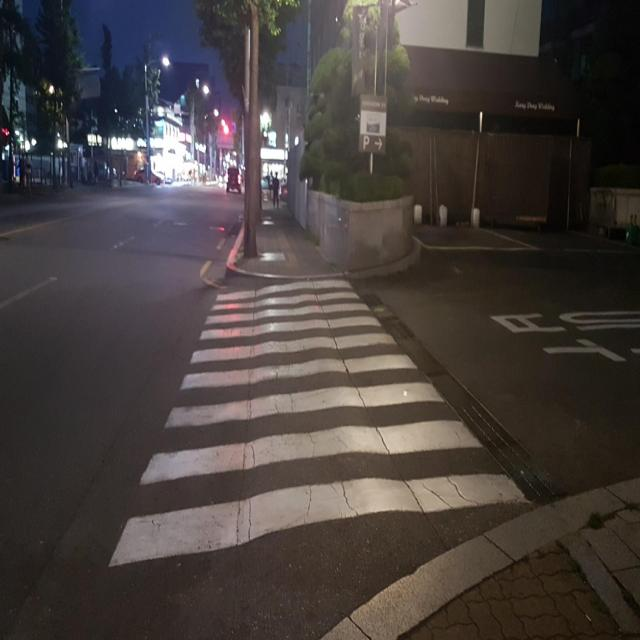횡단보도: (107, 277, 533, 570)
